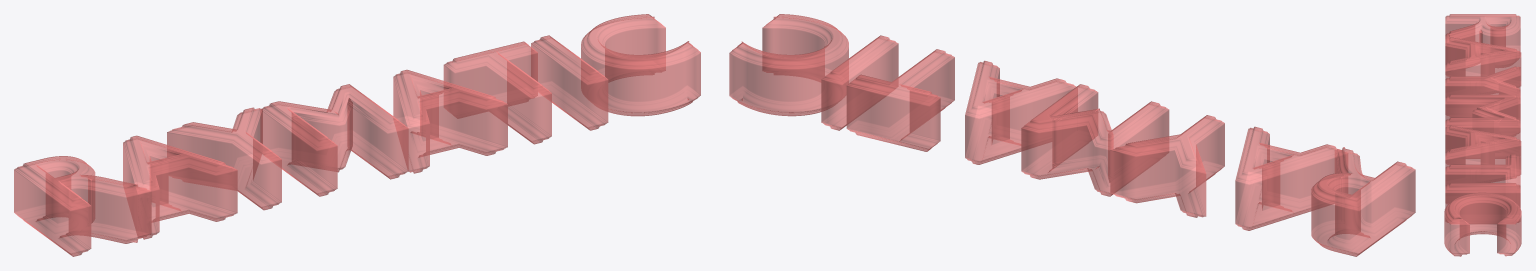
The model's file is raymatic.glb.
3 views of the same model, side by side, from view 1: azimuth 30°, elevation 25°; view 2: azimuth 150°, elevation 25°; view 3: azimuth 270°, elevation 25° (orthographic). The views are drawn at different scales.
Parts seen in each view (by area): view 1: Text; view 2: Text; view 3: Text.
Part boxes in pixels (x1,y1,x2,y2): Text: (14, 14, 700, 256); Text: (729, 14, 1415, 256); Text: (1444, 14, 1521, 256).
Bounding box in the file's own units: 4.82 × 0.42 × 0.76.
